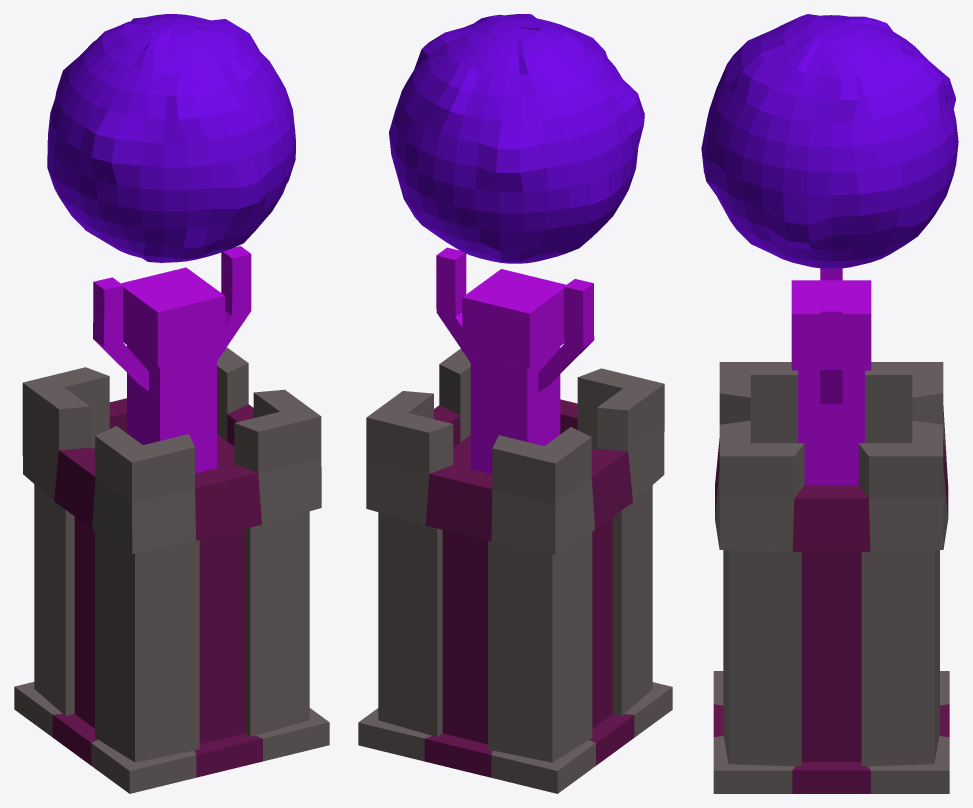
The model's file is WizardTowerUpgrade.fbx.
3 views of the same model, side by side, from view 1: azimuth 30°, elevation 25°; view 2: azimuth 150°, elevation 25°; view 3: azimuth 270°, elevation 25° (orthographic). The views are drawn at different scales.
Visible parts, largest first — view 1: Wizard Tower, Magic Ball, Wizard; view 2: Wizard Tower, Magic Ball, Wizard; view 3: Wizard Tower, Magic Ball, Wizard.
Boxes of the visible parts, box(x1,y1,x2,y2) form: Wizard Tower: box(14, 347, 329, 793); Magic Ball: box(47, 14, 295, 262); Wizard: box(93, 246, 251, 473); Wizard Tower: box(358, 348, 672, 793); Magic Ball: box(389, 14, 644, 263); Wizard: box(436, 247, 594, 474); Wizard Tower: box(713, 362, 949, 793); Magic Ball: box(701, 14, 958, 268); Wizard: box(791, 268, 871, 485).
Bounding box in the file's own units: 318 × 992 × 322.
